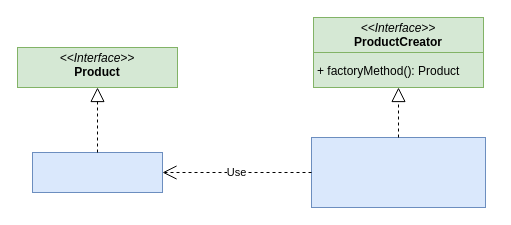
Image size: 511x225. Some labels were removed from this diagram. The shapes that lost their labels are listed below. From the top down, each one's centre as x and y in pixels, then its label:
At point 97,172: "<<Class>> ConcreteProduct".
At point 398,172: "<<Class>> ConcreteProductCreator + factoryMethod(): Product".
